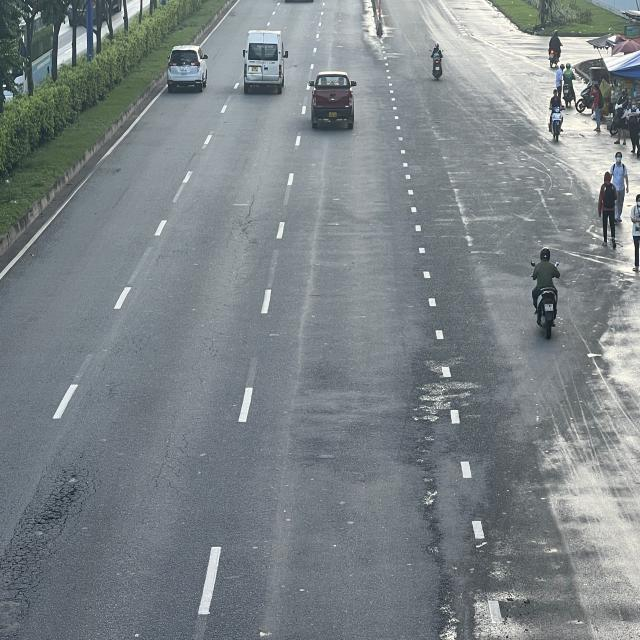car: (310, 69, 358, 127), (166, 46, 208, 91)
van: (244, 32, 290, 94)
